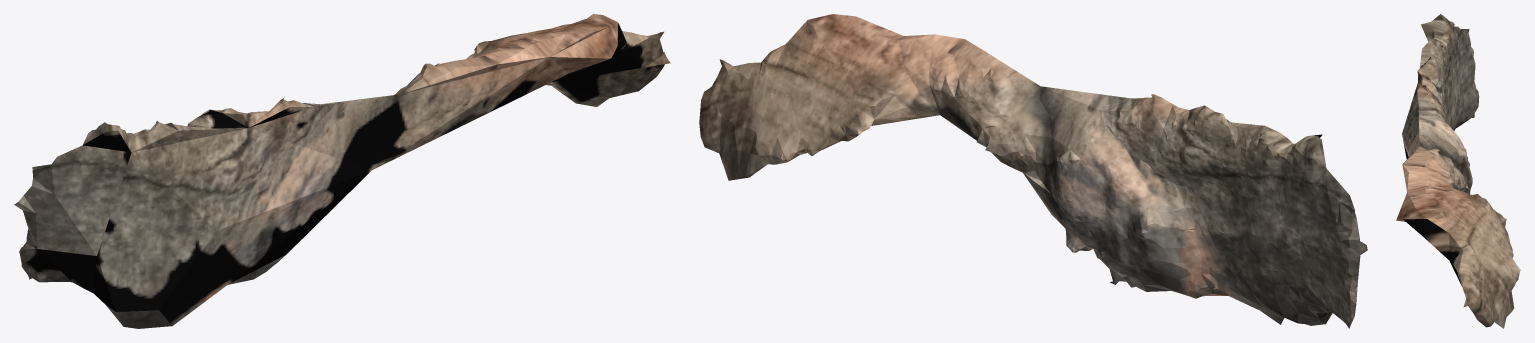
3 views of the same model, side by side, from view 1: azimuth 30°, elevation 25°; view 2: azimuth 150°, elevation 25°; view 3: azimuth 270°, elevation 25° (orthographic). The views are drawn at different scales.
Parts seen in each view (by area): view 1: TexturedMesh; view 2: TexturedMesh; view 3: TexturedMesh.
Boxes of the visible parts, bbox=[...] form: TexturedMesh: bbox=[14, 14, 670, 328]; TexturedMesh: bbox=[699, 14, 1367, 328]; TexturedMesh: bbox=[1396, 14, 1520, 328].
Bounding box in the file's own units: 1.01 × 0.3017 × 0.2153.
Materials: 1 (1 with a texture image).
